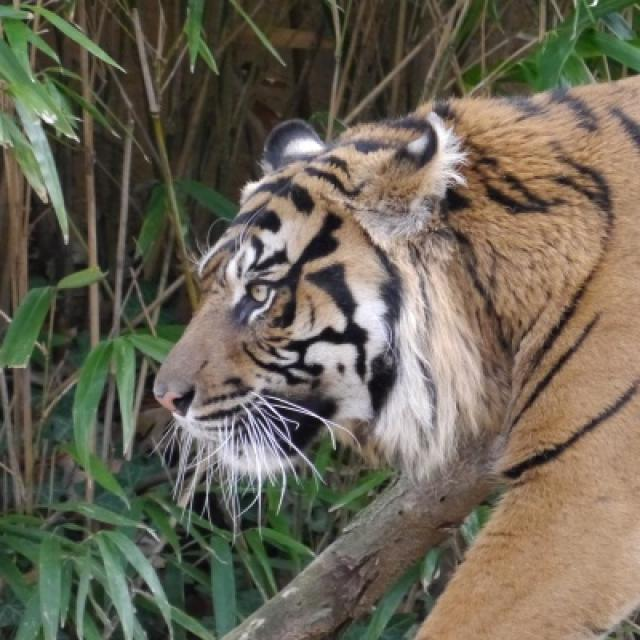Tiger: (149, 75, 638, 638)
